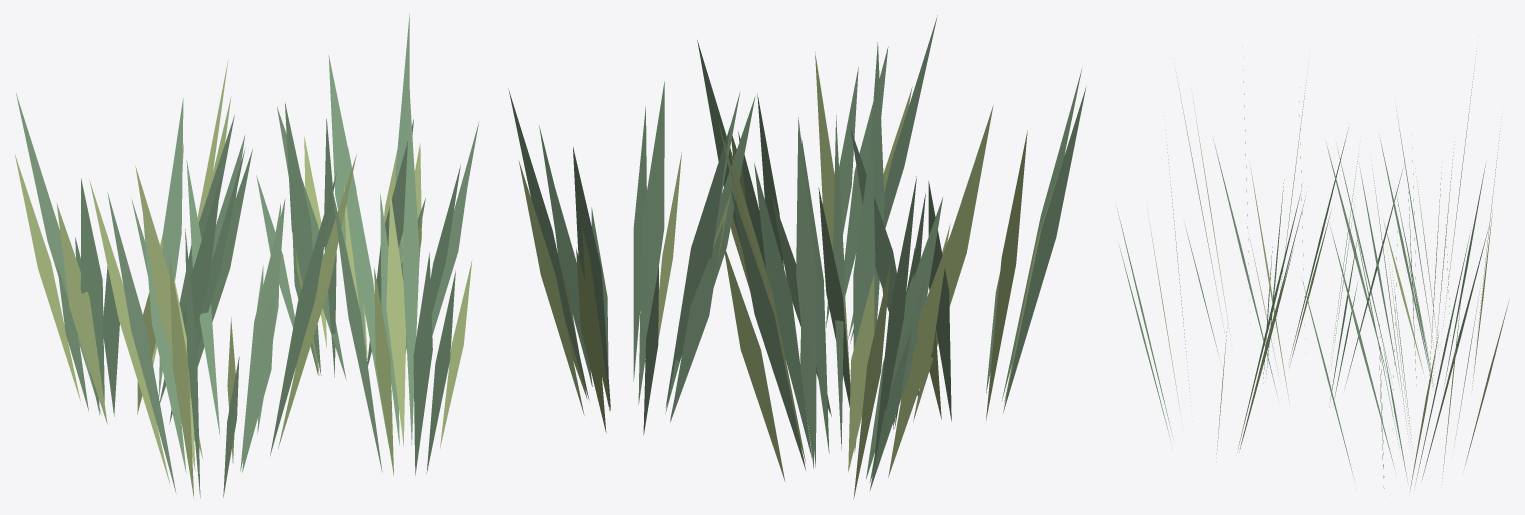
The model's file is wild_grass_spray.glb.
3 views of the same model, side by side, from view 1: azimuth 30°, elevation 25°; view 2: azimuth 150°, elevation 25°; view 3: azimuth 270°, elevation 25° (orthographic). The views are drawn at different scales.
Parts seen in each view (by area): view 1: wild_grass_spray; view 2: wild_grass_spray; view 3: wild_grass_spray.
Part boxes in pixels (bbox=[...]): wild_grass_spray: bbox=[15, 14, 479, 499]; wild_grass_spray: bbox=[508, 15, 1086, 498]; wild_grass_spray: bbox=[1117, 51, 1509, 490].
Bounding box in the file's own units: 1.47 × 1.03 × 1.2.
